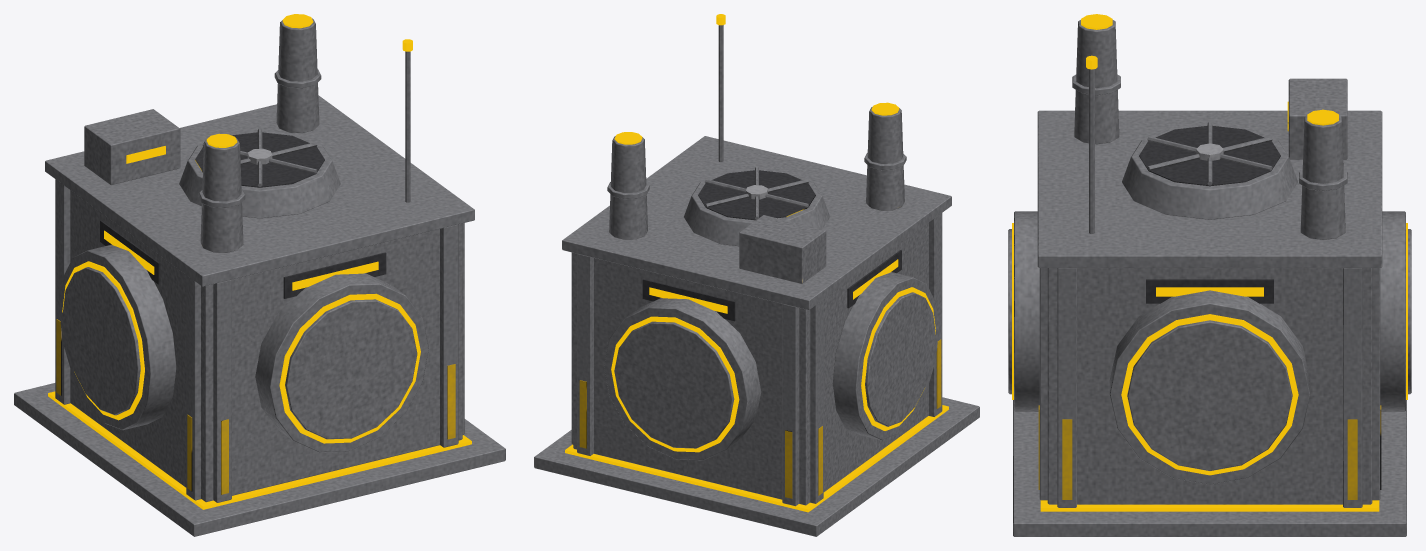
The model's file is nodexeus-pump.glb.
3 renders of one model, left to right at view 1: azimuth 30°, elevation 25°; view 2: azimuth 150°, elevation 25°; view 3: azimuth 270°, elevation 25°, orthographic. The views are drawn at different scales.
Visible parts, largest first — view 1: pump; view 2: pump; view 3: pump.
Boxes of the visible parts, x1,y1,x2,y2 form: pump: (14,14,505,536); pump: (534,14,979,536); pump: (1008,14,1411,536).
Size of the model in its own units: 4.1 by 5 by 4.1.
1 material, 1 textured.
